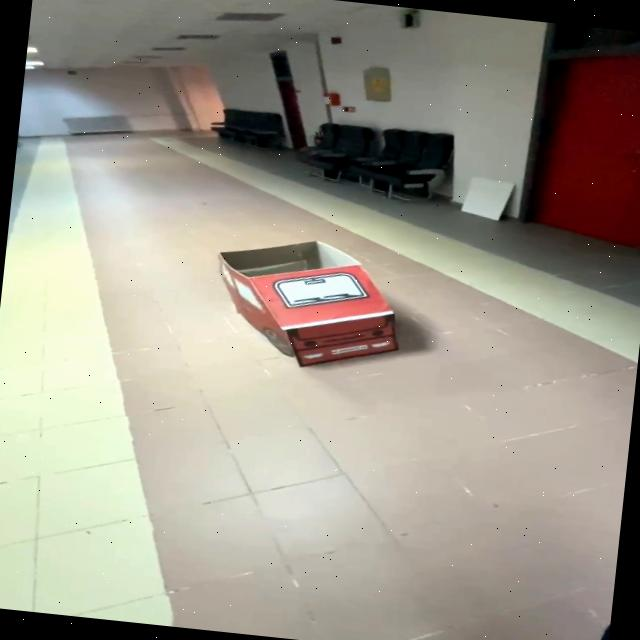red_car: (182, 225, 429, 389)
